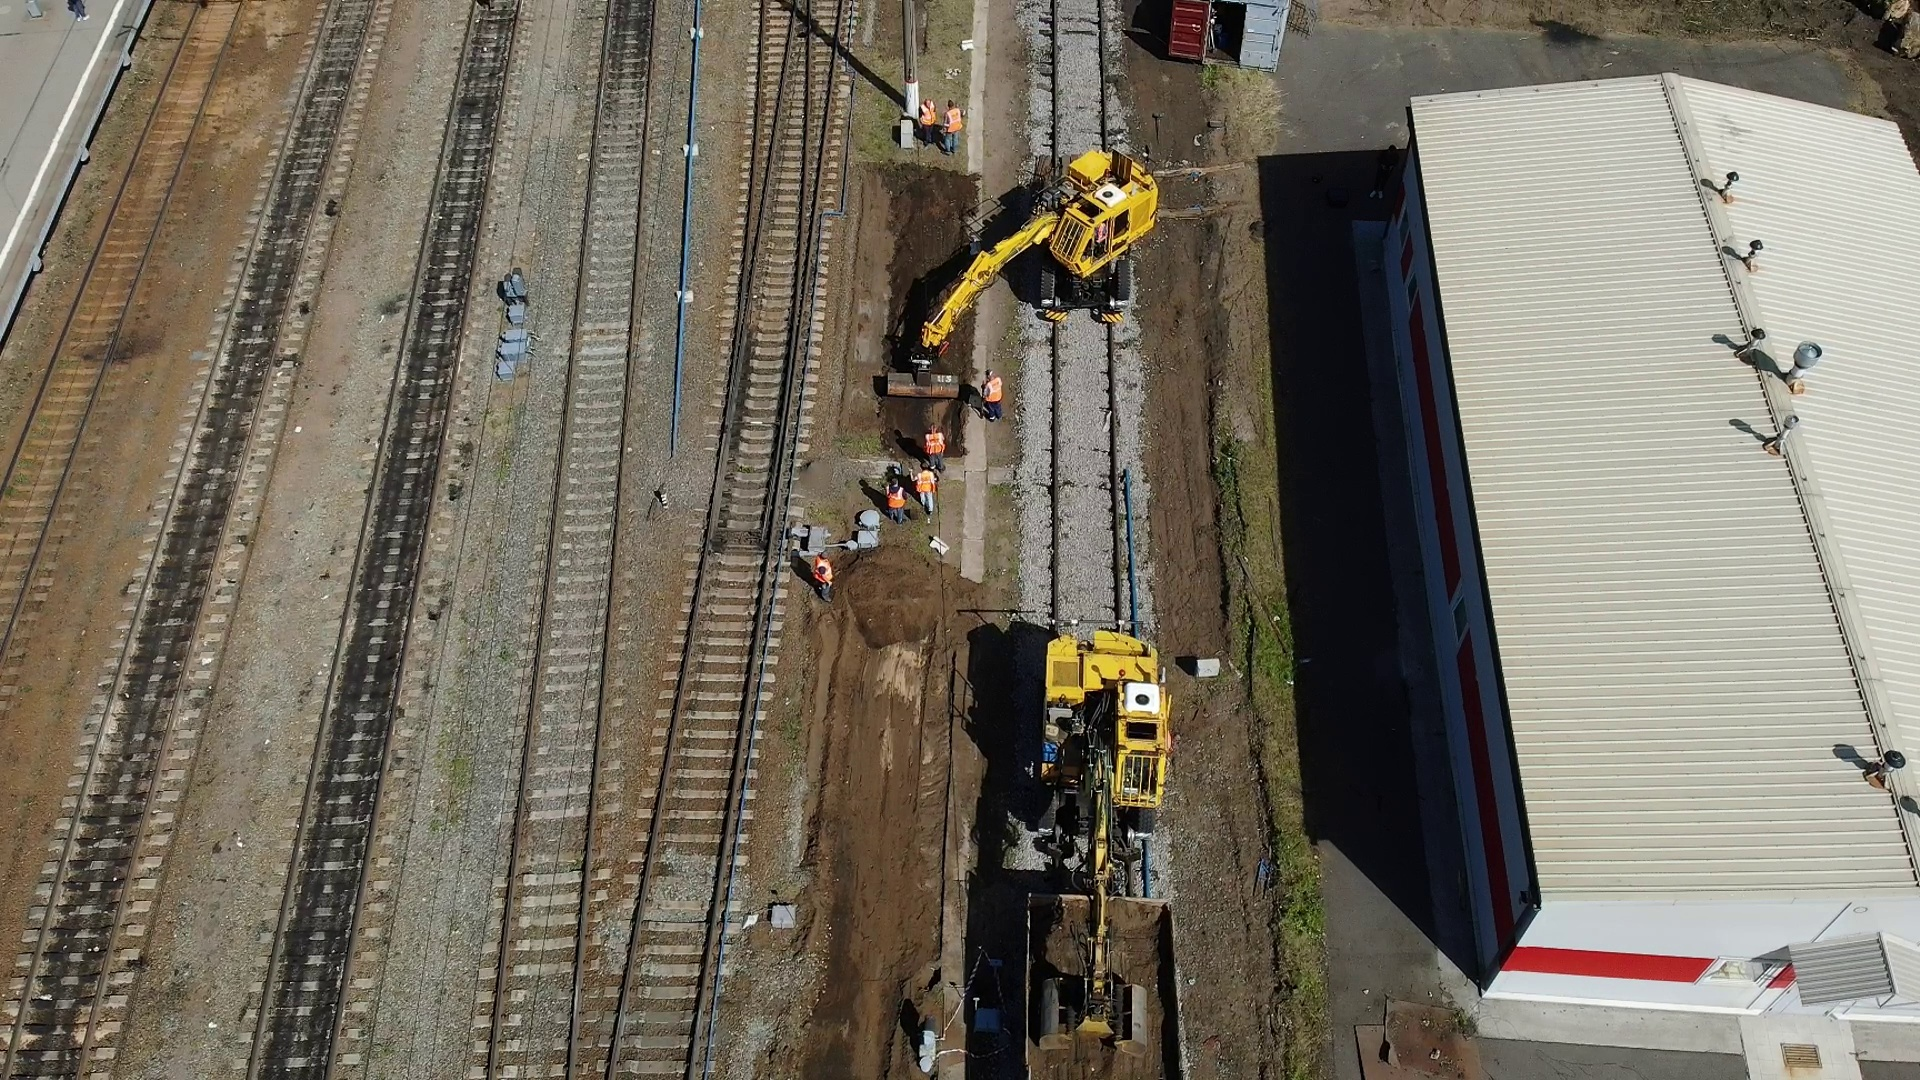kjtv: (1029, 618, 1175, 825), (1036, 152, 1158, 277)
